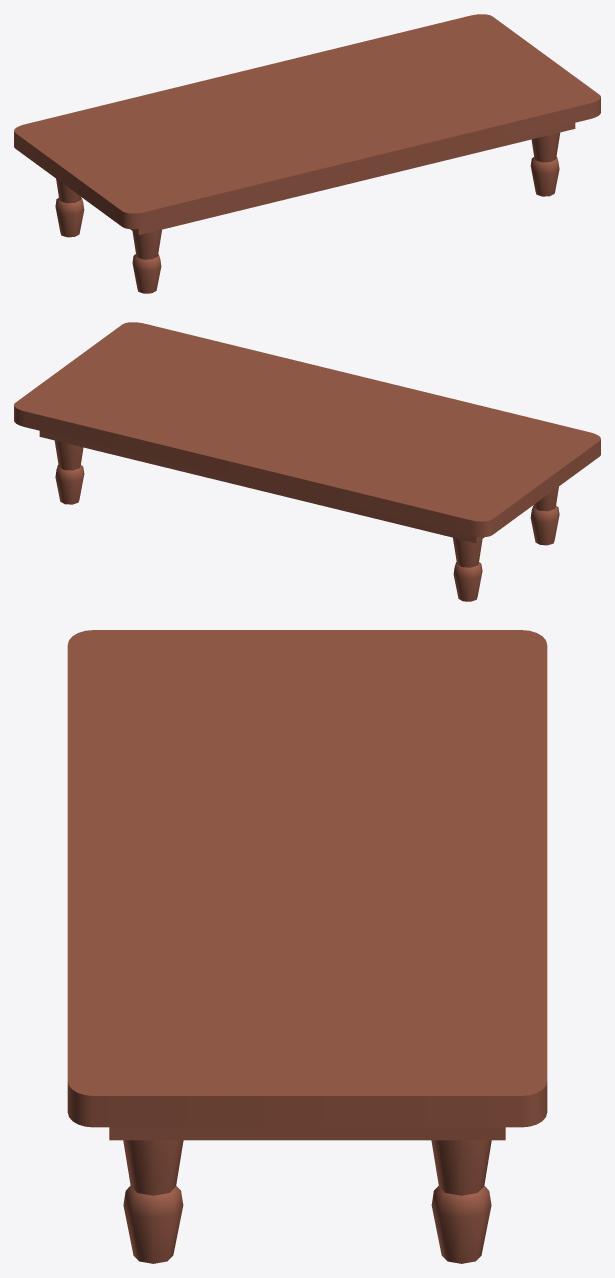
The model's file is diningtable.fbx.
3 views of the same model, one above another, from view 1: azimuth 30°, elevation 25°; view 2: azimuth 150°, elevation 25°; view 3: azimuth 270°, elevation 25° (orthographic). The views are drawn at different scales.
Parts seen in each view (by area): view 1: diningtable; view 2: diningtable; view 3: diningtable.
Boxes of the visible parts, x1,y1,x2,y2 form: diningtable: [14, 14, 600, 293]; diningtable: [14, 322, 600, 601]; diningtable: [67, 630, 547, 1263].
Size of the model in its own units: 4.42 by 0.8762 by 1.92.
